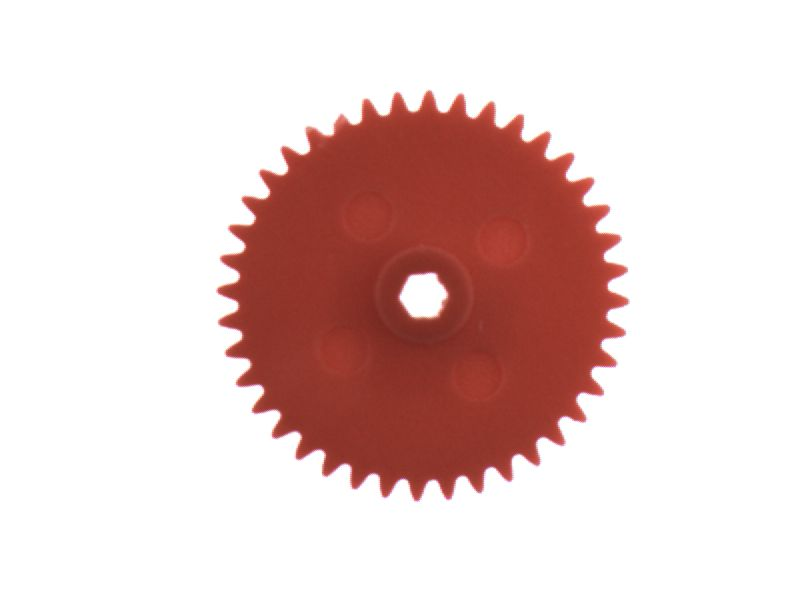defect_break: (321, 104, 360, 140)
